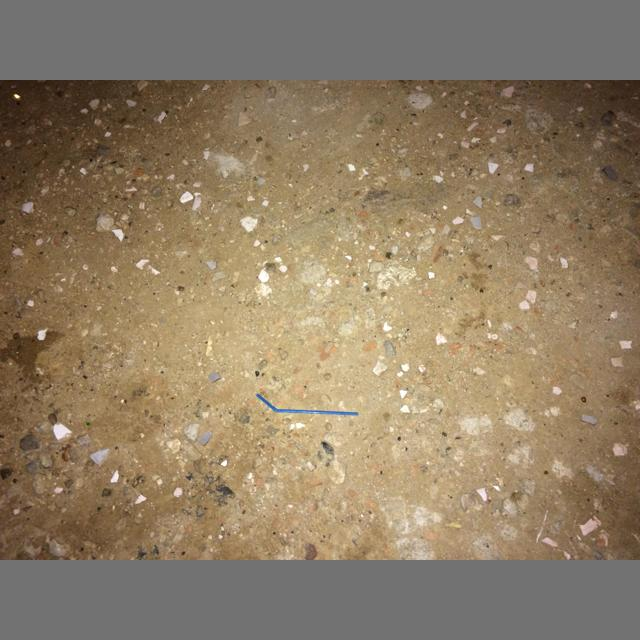litter: (256, 393, 358, 415)
